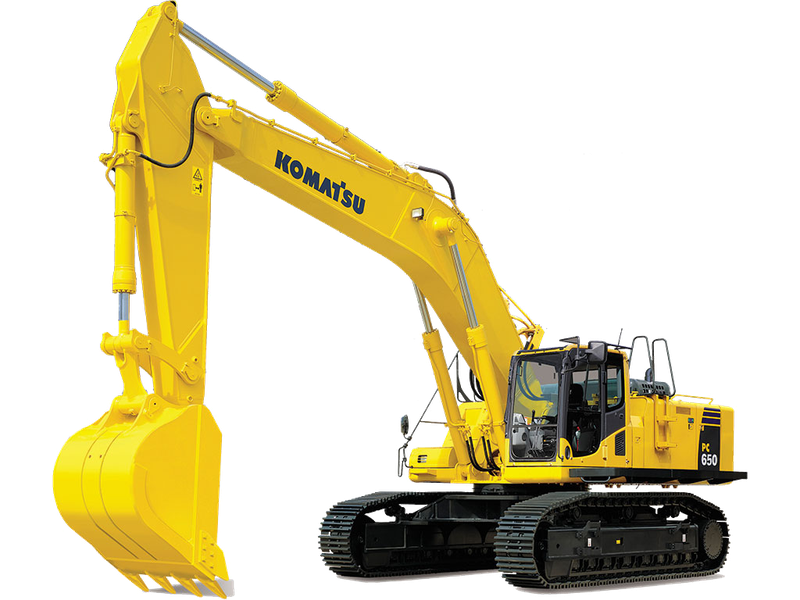shovel: (28, 1, 758, 599)
